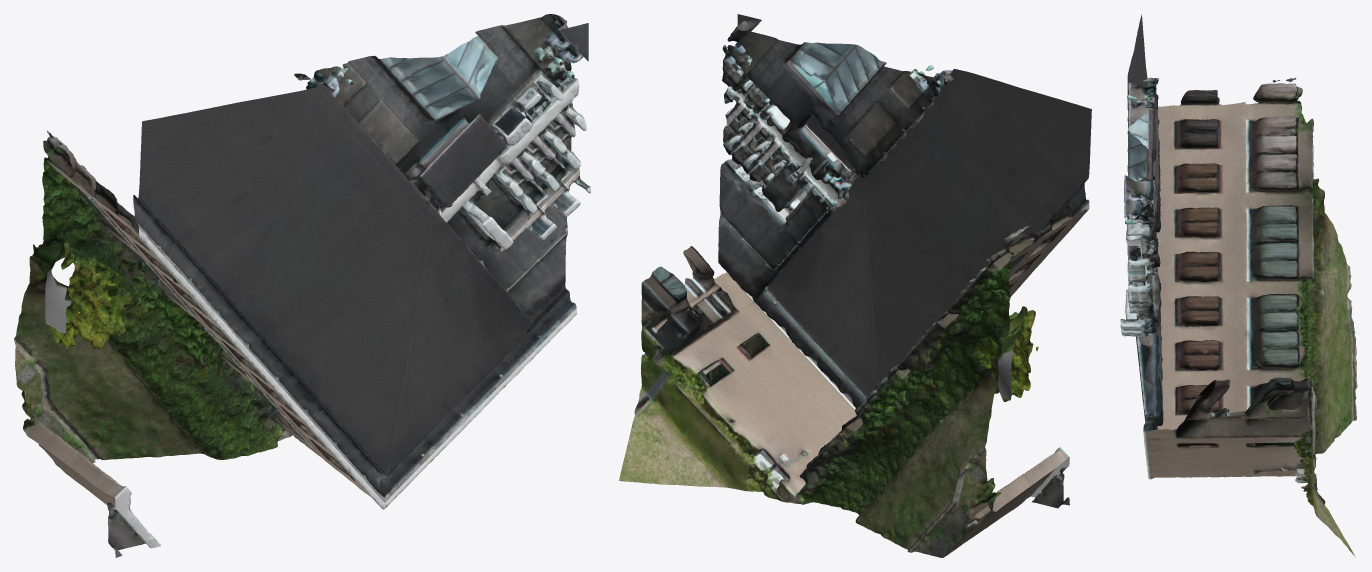
Rendered from Tile_+008_+012.fbx.
3 renders of one model, left to right at view 1: azimuth 30°, elevation 25°; view 2: azimuth 150°, elevation 25°; view 3: azimuth 270°, elevation 25°, orthographic. The views are drawn at different scales.
Visible parts, largest first — view 1: DefaultName; view 2: DefaultName; view 3: DefaultName.
Boxes of the visible parts, x1,y1,x2,y2 form: DefaultName: (14,14,590,557); DefaultName: (619,14,1091,557); DefaultName: (1120,14,1357,556).
Bounding box in the file's own units: 22.54 × 22.54 × 13.06.
